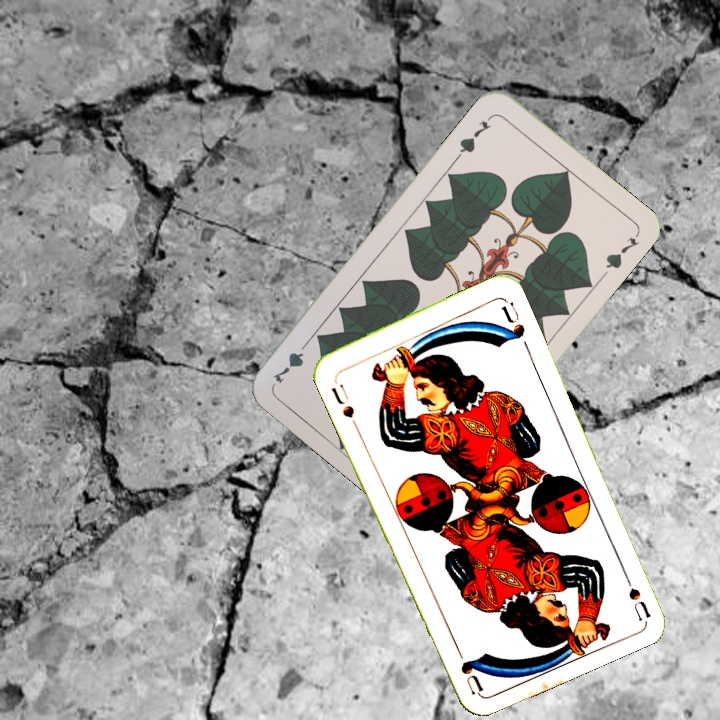G7: (453, 111, 495, 161)
SU: (617, 563, 652, 621), (327, 373, 360, 430)
